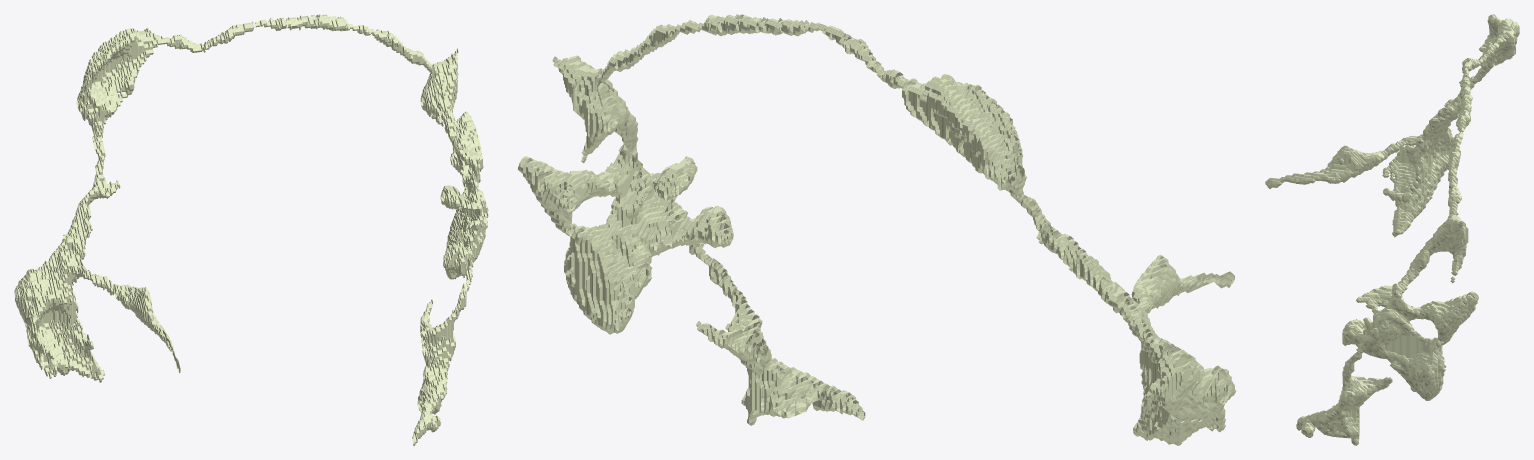
The model's file is SVV_RMDL.gltf.
3 renders of one model, left to right at view 1: azimuth 30°, elevation 25°; view 2: azimuth 150°, elevation 25°; view 3: azimuth 270°, elevation 25°, orthographic. The views are drawn at different scales.
Parts seen in each view (by area): view 1: RMDL; view 2: RMDL; view 3: RMDL.
Part boxes in pixels (x1,y1,x2,y2): RMDL: (14, 14, 488, 445); RMDL: (517, 14, 1236, 445); RMDL: (1265, 14, 1519, 445).
Bounding box in the file's own units: 131497 × 98285 × 67322.
